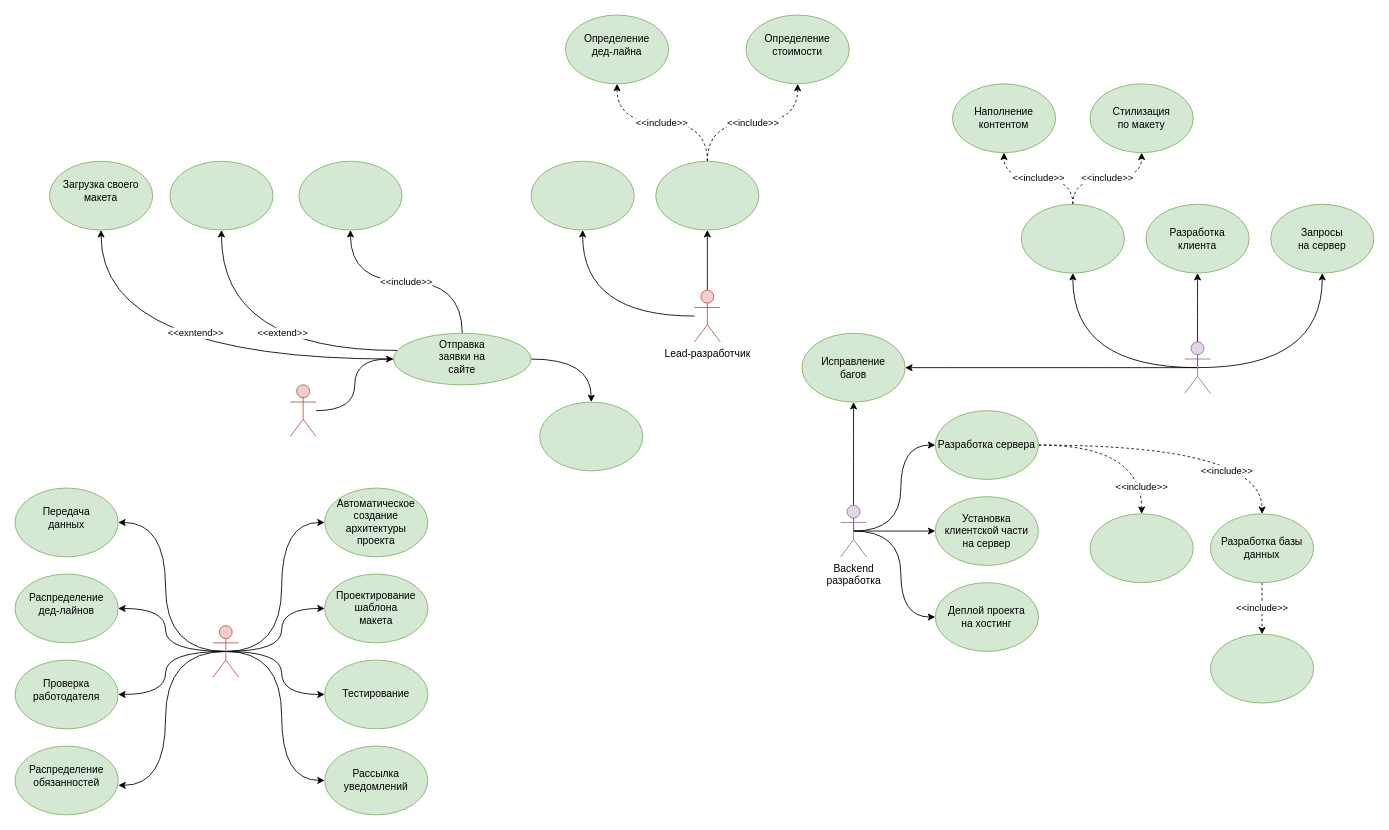
Image size: 1389x830. Some labels were removed from this diagram. Each missing label, with the centre of its shape:
Frontend разработчик: point (1197, 367)
SQL запросы: point (1262, 668)
Верстка: point (1072, 238)
Выбор макета на сайте: point (221, 195)
Заказчик: point (302, 410)
Заключение договора: point (707, 195)
Принятие решения о приеме заказа: point (582, 195)
Работа с запросами на сервер: point (1141, 548)
Система: point (225, 651)
Составление ТЗ: point (350, 195)
Утверждение заказа Lead-разработчиком: point (591, 436)
